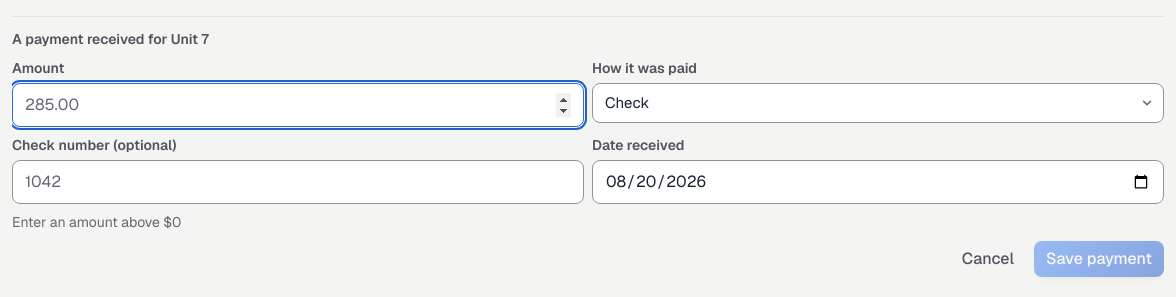
a check or cash from an owner › caps a payment at the balance plus $10,000 and says when it passes the balance
Type "300" into the number field named "Payment amount". click: [298, 105]
box: [12,83,584,127]
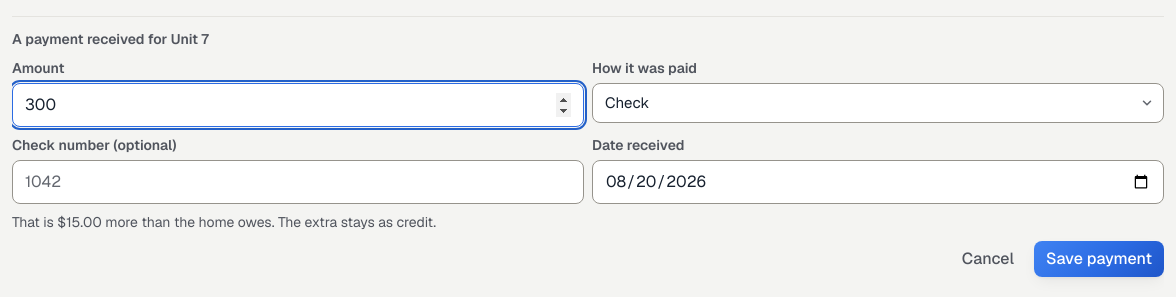
Result: the text "That is $15.00 more than the home owes. The extra stays as credit." is shown at [12,213,436,231]
Result: the button "Save payment" is enabled at [1034,241,1164,277]
Replace the text in the number field named "Payment amount" with "999999999". click: [298, 105]
box: [12,83,584,127]
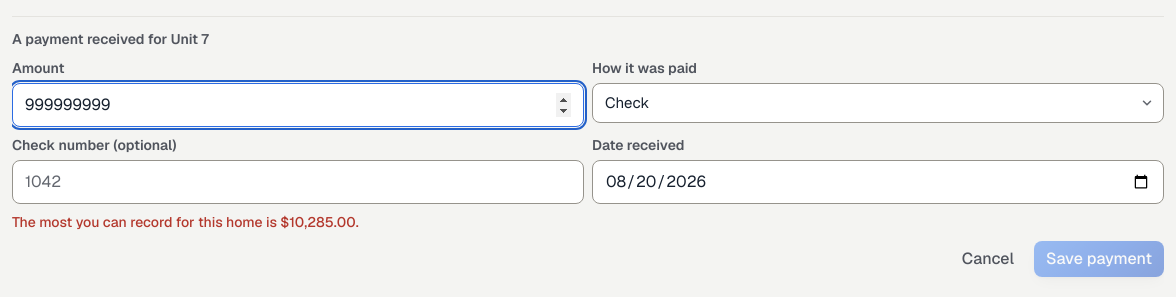
Result: the message reads "The most you can record for this home is $10,285.00." at [12,213,359,231]
Result: the button "Save payment" is disabled at [1034,241,1164,277]
